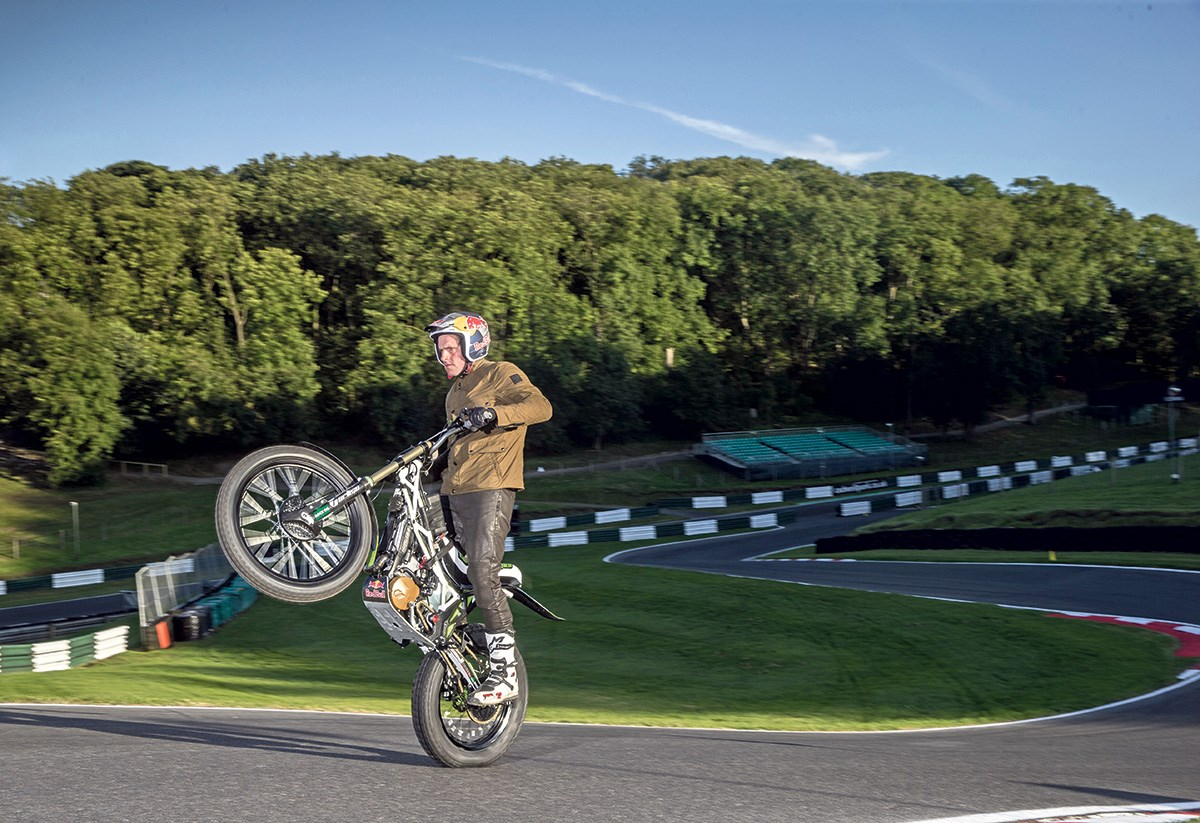helmet: (426, 307, 501, 378)
